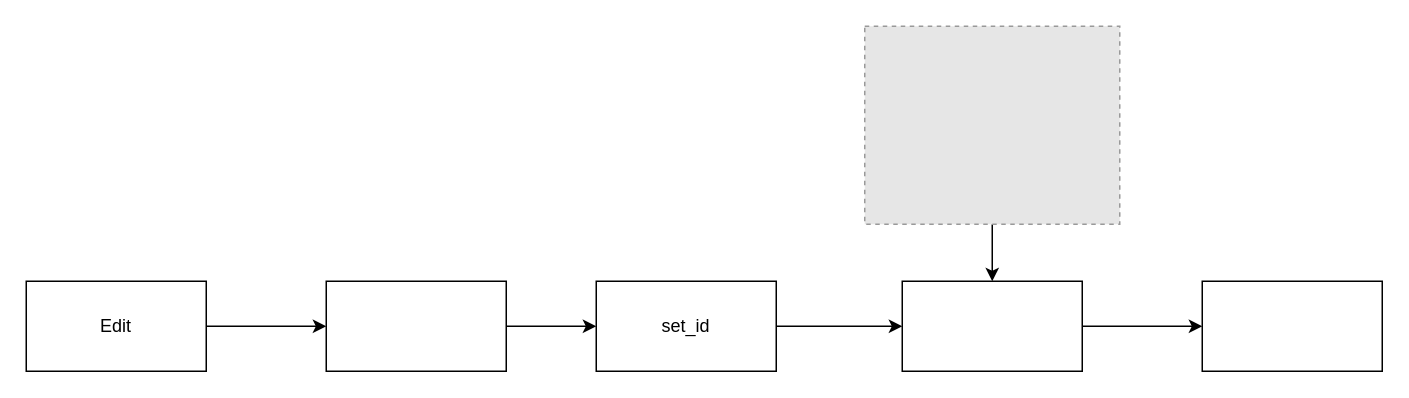
The diagram is 1409 pixels wide and 398 high, and some of its shapes have lost their labels. Grey dashed boxes stand in for pictures. The centre of each missing label's shape, as x and y in pixels:
"router" belongs at [415,325].
"targetList" belongs at [991,325].
